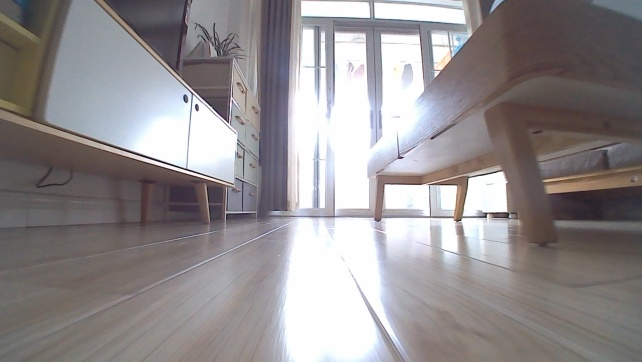TV_stand1: (0, 0, 240, 226)
cabinet: (165, 53, 261, 222)
sofa1: (530, 137, 641, 197)
tea_table: (360, 0, 641, 249)
wire: (34, 166, 74, 190)
